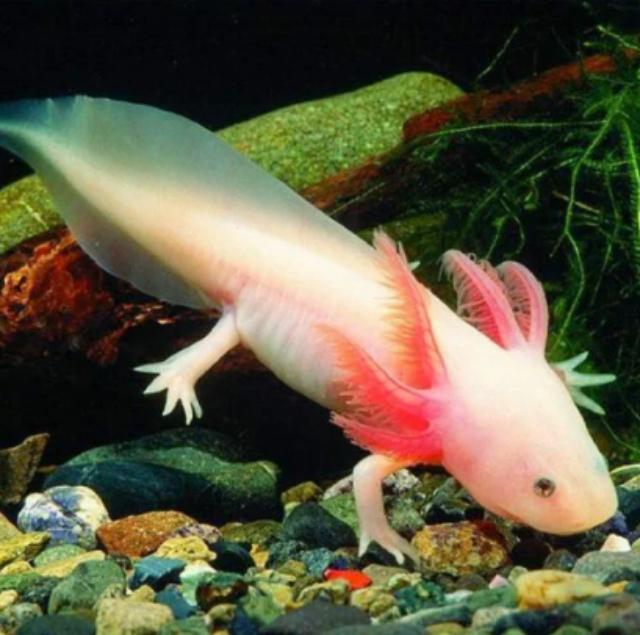Sirip Ekor: (0, 76, 140, 276)
